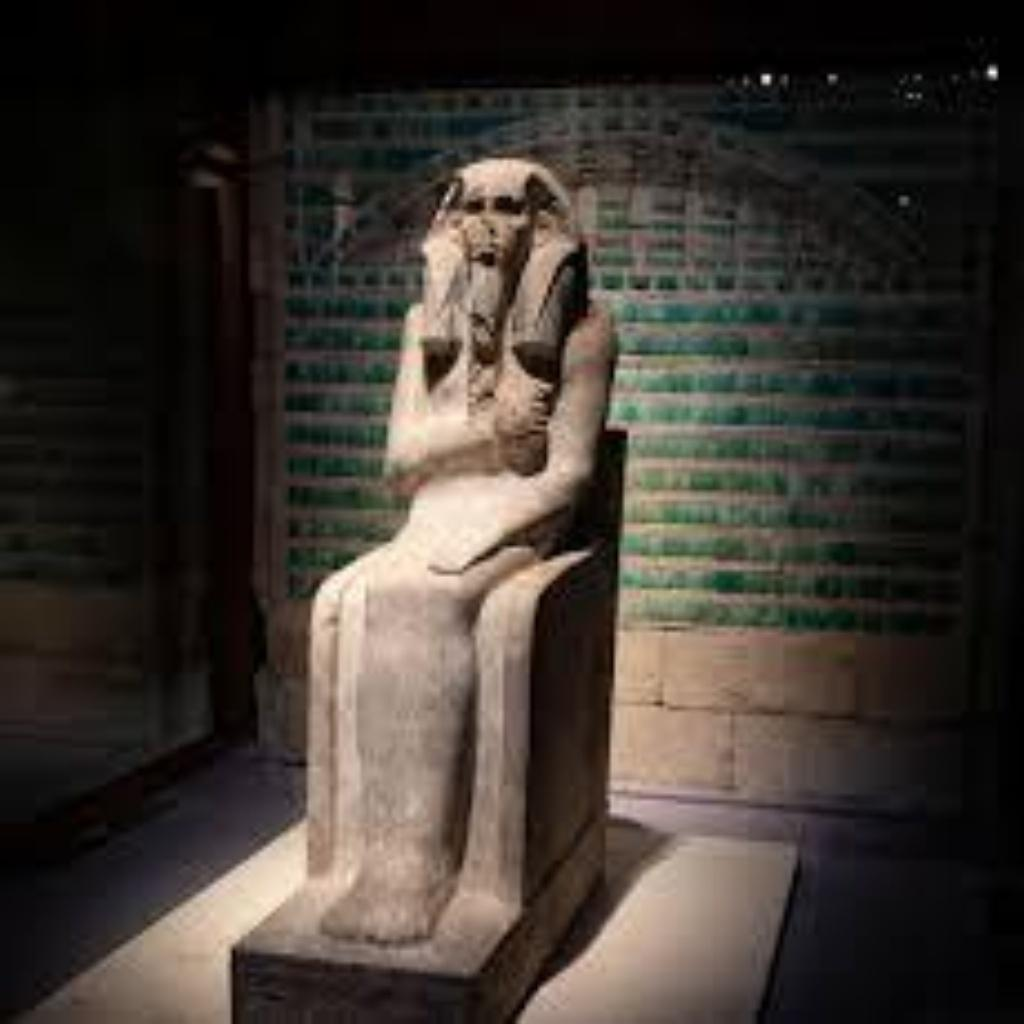Statue of King Zoser: (294, 145, 623, 949)
